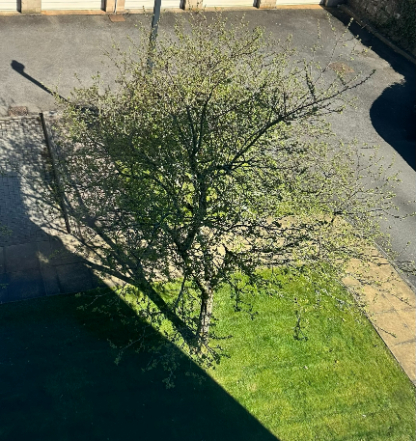tree: (6, 14, 373, 358)
